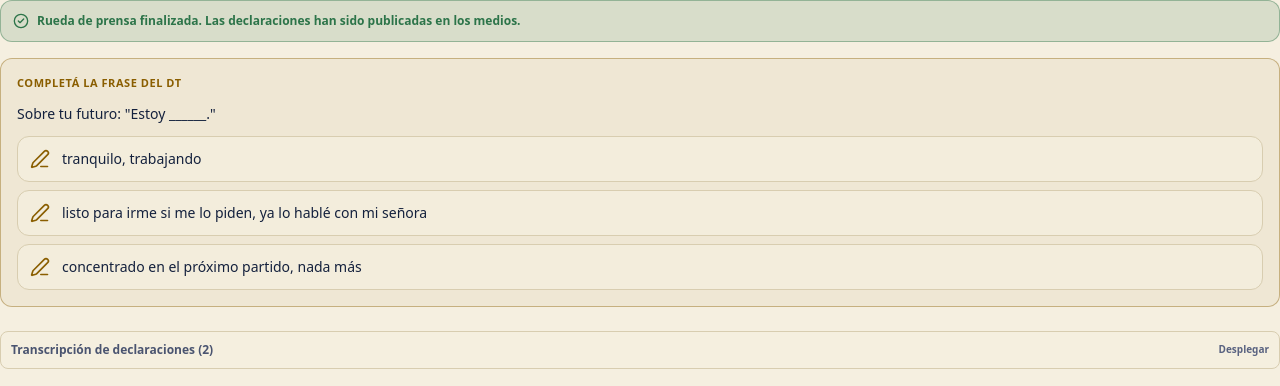
it: sala de prensa relámpago › al terminar aparece "Completá la frase": se elige una vez y se aplica el efecto
Step 1. Click the button "tranquilo, trabajando" → (132,158), box top-left (17, 136), bottom-right (1263, 182)
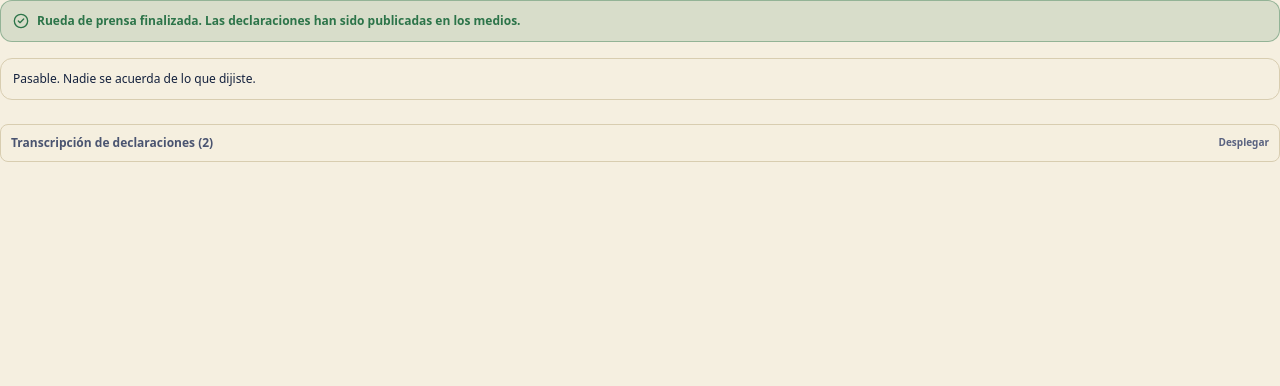
Check: the text "Completá la frase del DT" is gone
Check: the message "Pasable. Nadie se acuerda de lo que dijiste." is shown, box top-left (0, 58), bottom-right (1279, 100)
